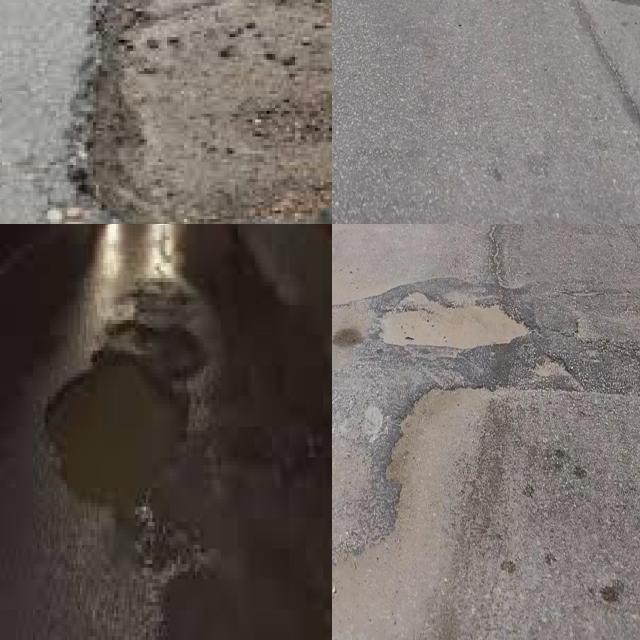Pothole: (48, 289, 207, 491), (378, 285, 534, 349)
